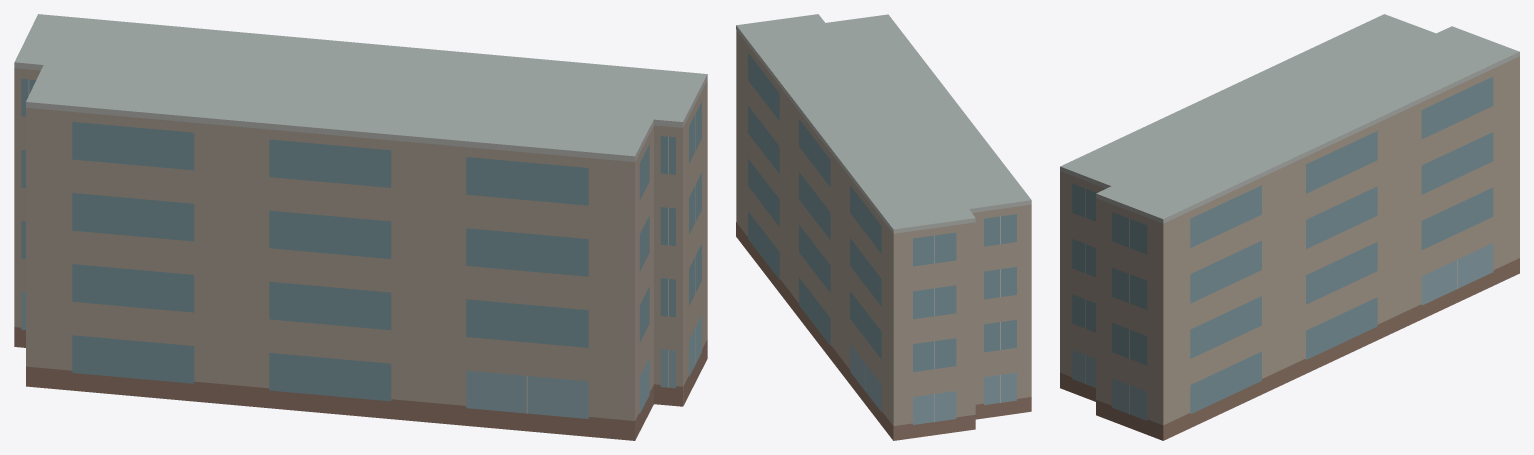
The model's file is survey-upis-33022251.glb.
3 renders of one model, left to right at view 1: azimuth 30°, elevation 25°; view 2: azimuth 150°, elevation 25°; view 3: azimuth 270°, elevation 25°, orthographic. The views are drawn at different scales.
Parts seen in each view (by area): view 1: survey-upis-33022251.tmp; view 2: survey-upis-33022251.tmp; view 3: survey-upis-33022251.tmp.
Boxes of the visible parts, x1=… form: survey-upis-33022251.tmp: x1=14, y1=14, x2=707, y2=440; survey-upis-33022251.tmp: x1=736, y1=14, x2=1031, y2=440; survey-upis-33022251.tmp: x1=1060, y1=14, x2=1519, y2=440.
Size of the model in its own units: 23.73 by 11.95 by 22.47.
